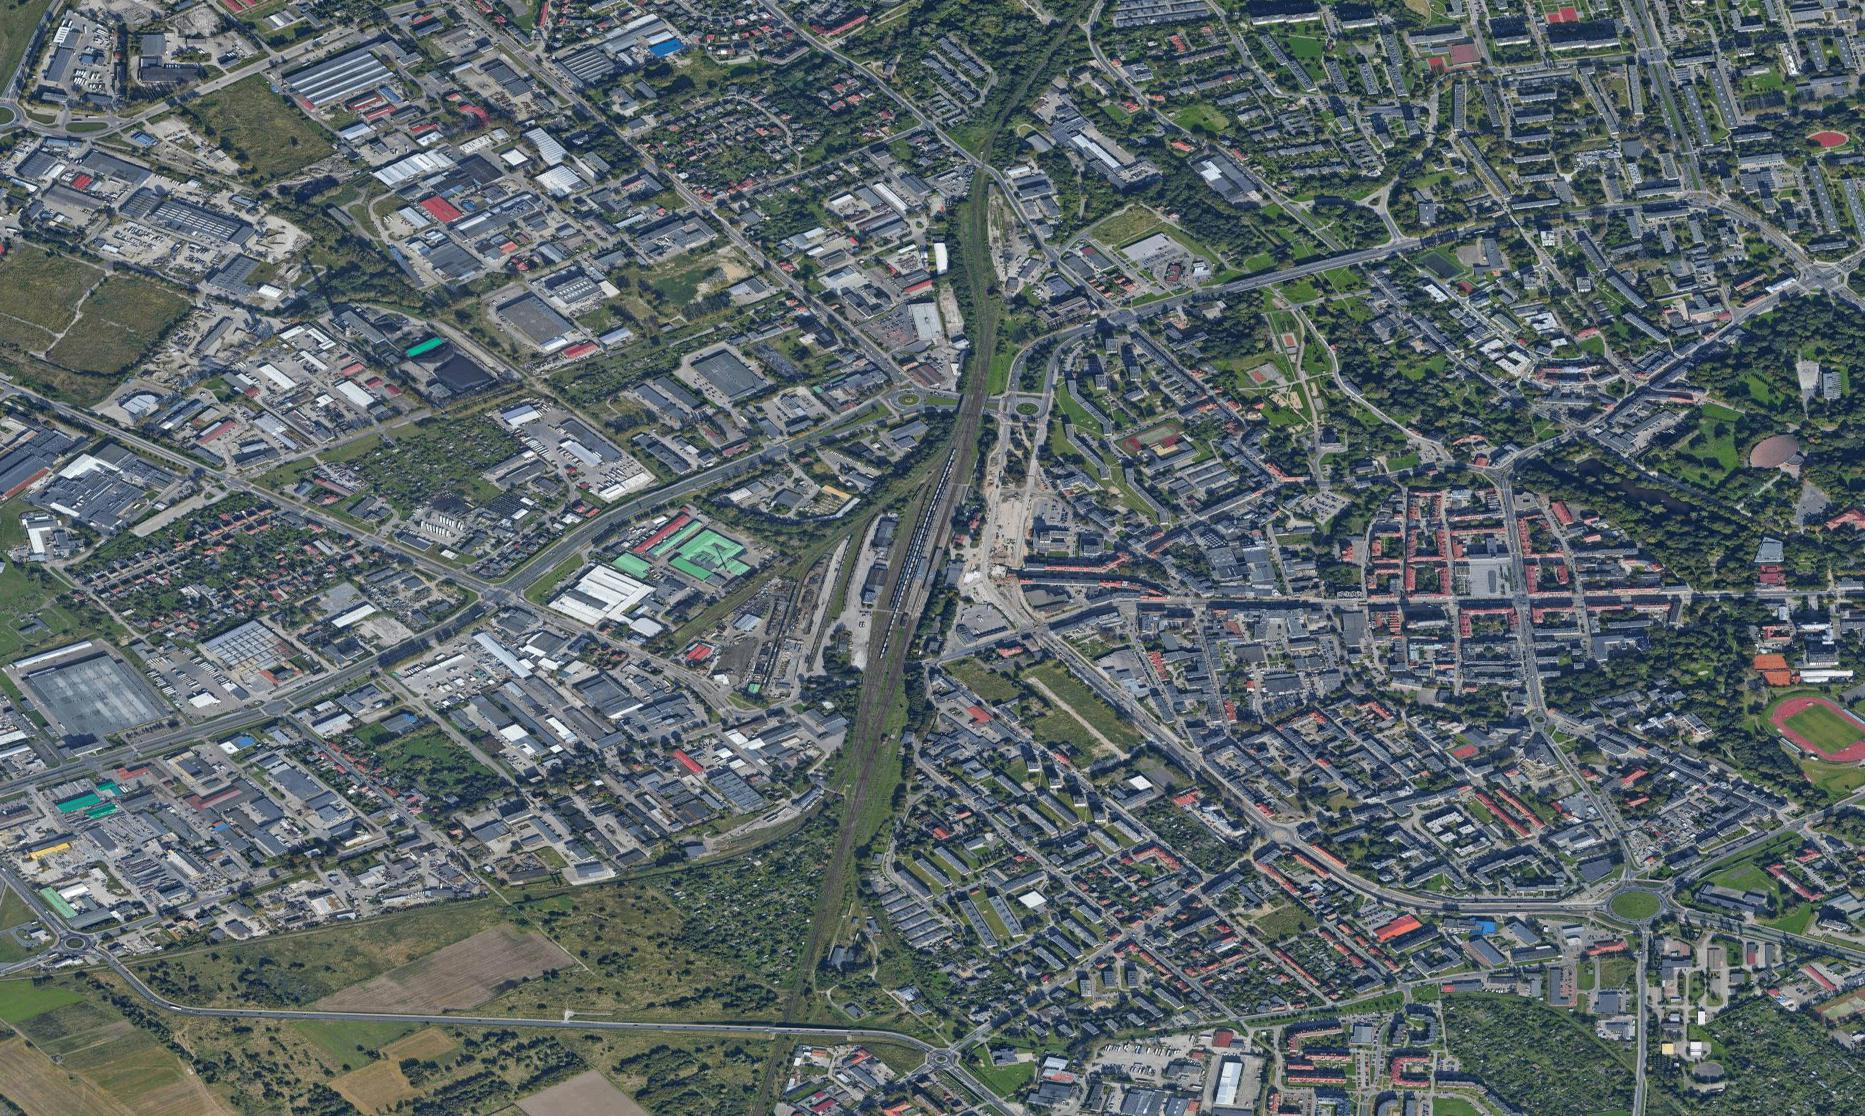industrial: (387, 608, 809, 834)
motorway: (211, 995, 385, 1027), (389, 1002, 577, 1031), (116, 958, 206, 1018), (578, 1011, 777, 1038), (777, 1026, 925, 1050)
train_station: (822, 481, 1006, 691)
